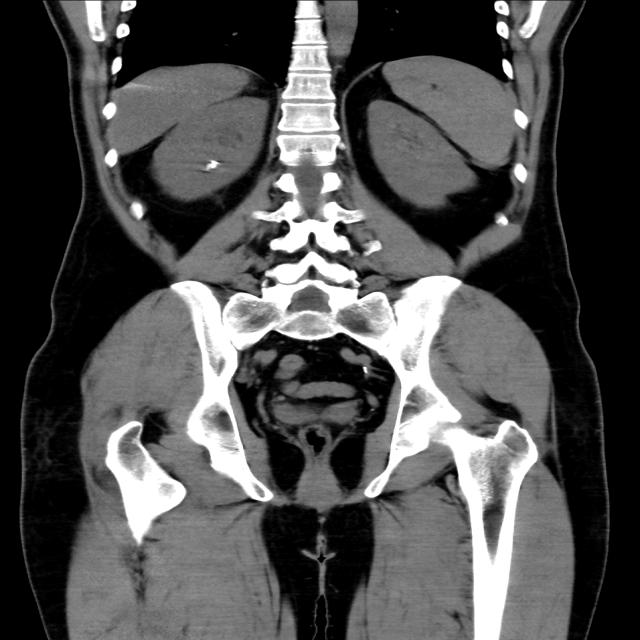kidneystone: (204, 160, 220, 170)
